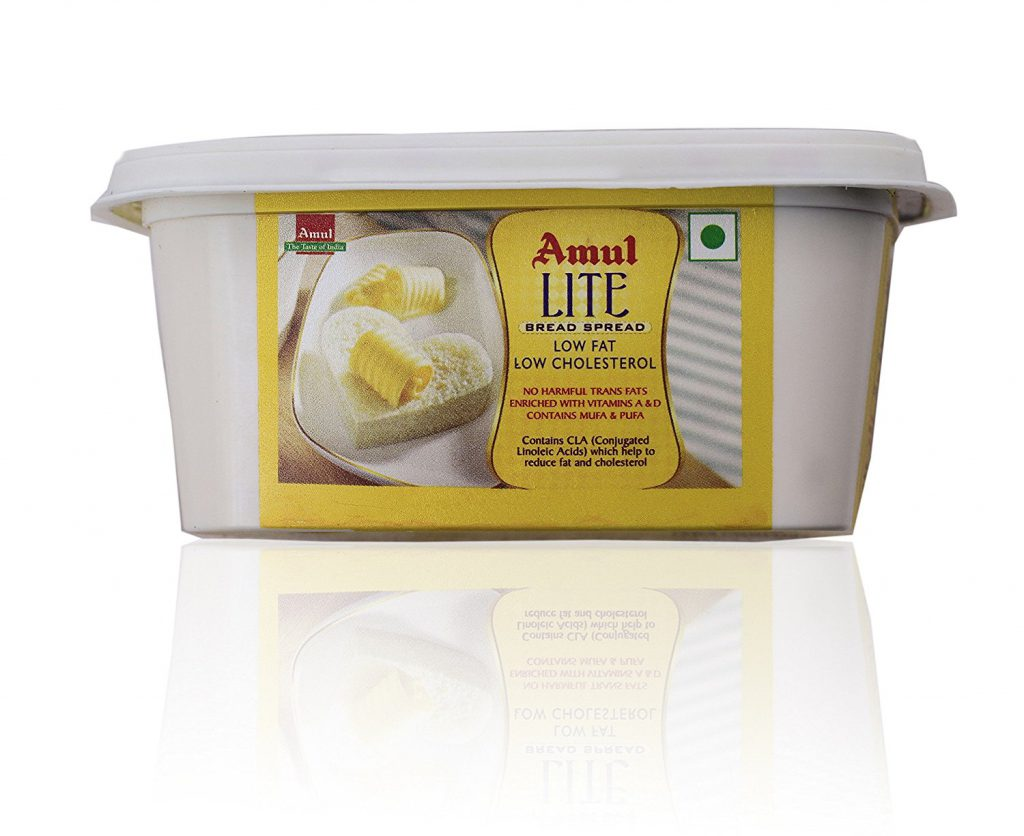VEG: (686, 209, 740, 264)
